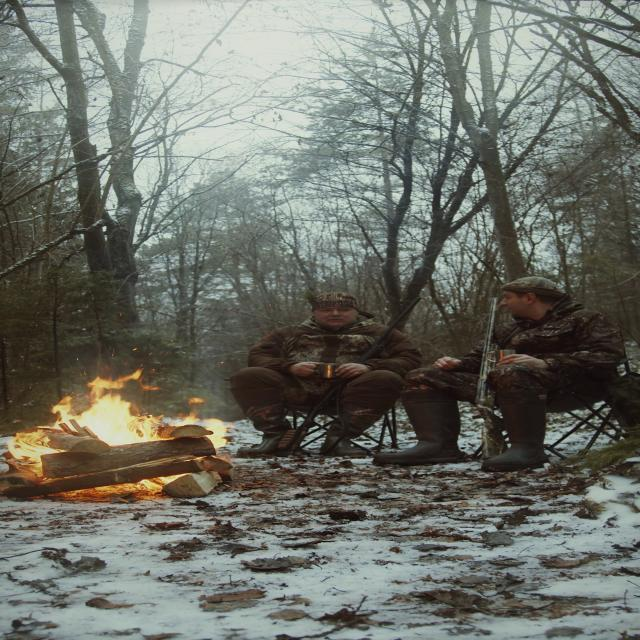Fire: (2, 364, 242, 488)
